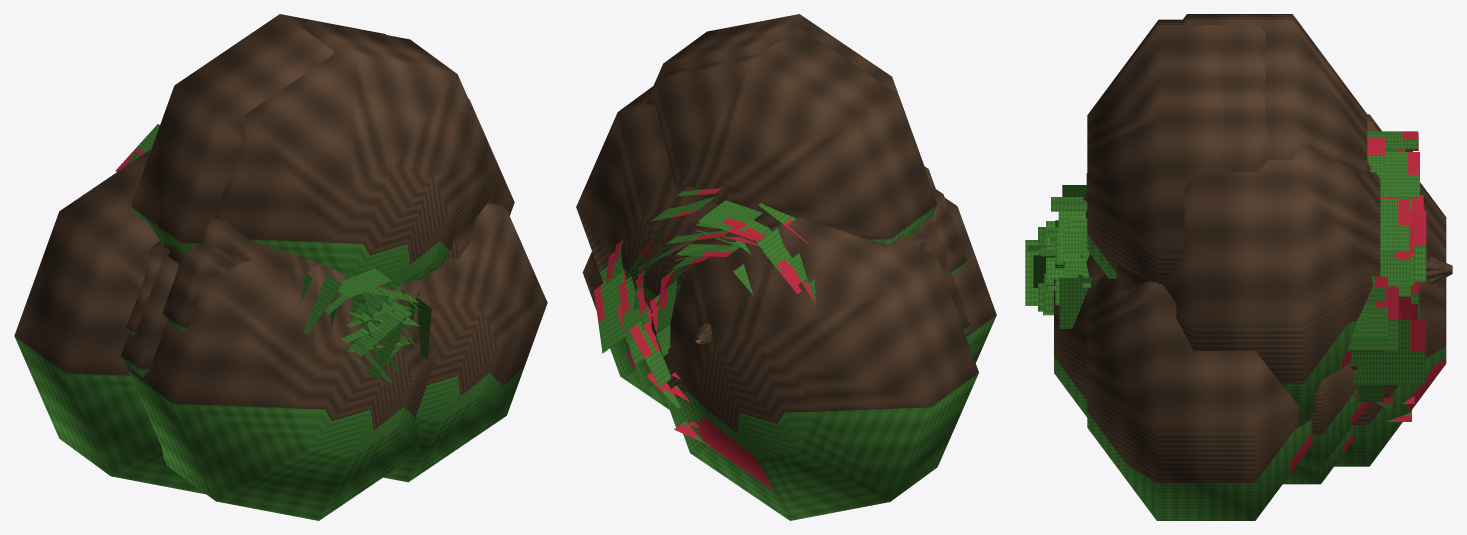
Rendered from veg_shrub_rose_01.obj.
The picture shows the model from 3 angles, left to right: view 1: azimuth 30°, elevation 25°; view 2: azimuth 150°, elevation 25°; view 3: azimuth 270°, elevation 25°; orthographic projection. The views are drawn at different scales.
Parts seen in each view (by area): view 1: veg_shrub_rose_01; view 2: veg_shrub_rose_01; view 3: veg_shrub_rose_01.
Part boxes in pixels (x1,y1,x2,y2): veg_shrub_rose_01: (14,14,547,520); veg_shrub_rose_01: (576,14,996,520); veg_shrub_rose_01: (1025,14,1452,520).
Bounding box in the file's own units: 1.48 × 1.49 × 1.2.
1 material, 1 textured.
